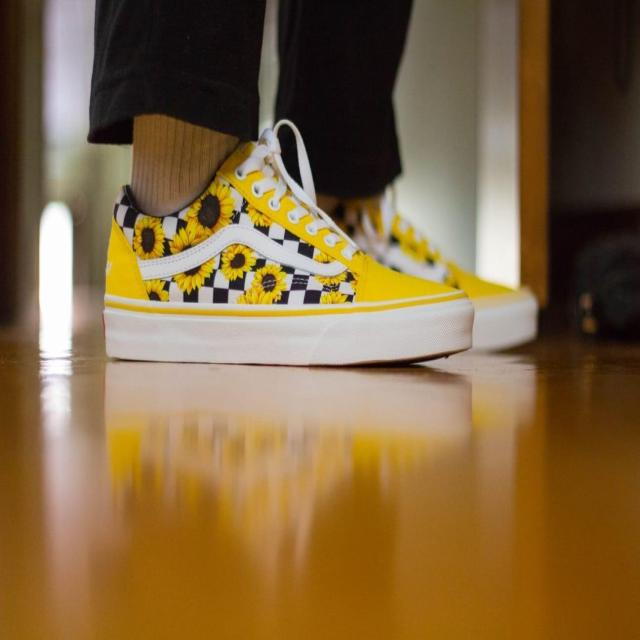shoe: (104, 155, 474, 364)
